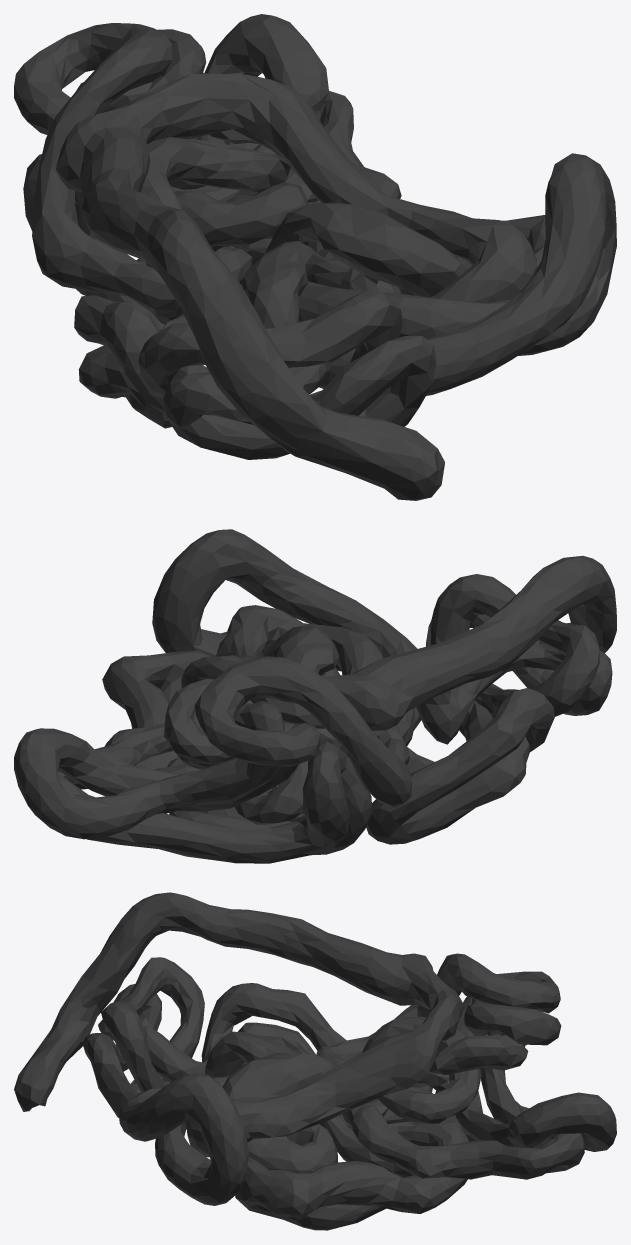
The model's file is SIT.glb.
The picture shows the model from 3 angles, top to bottom: view 1: azimuth 30°, elevation 25°; view 2: azimuth 150°, elevation 25°; view 3: azimuth 270°, elevation 25°; orthographic projection. The views are drawn at different scales.
Visible parts, largest first — view 1: SIT; view 2: SIT; view 3: SIT.
Part boxes in pixels (x1,y1,x2,y2): SIT: (14,14,616,500); SIT: (14,529,616,863); SIT: (14,892,616,1230).
Bounding box in the file's own units: 158 × 84.65 × 222.
1 material, 1 textured.
